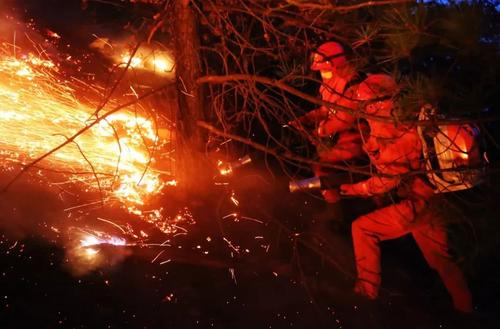fire: (2, 55, 160, 202), (121, 46, 176, 73), (79, 230, 125, 256)
